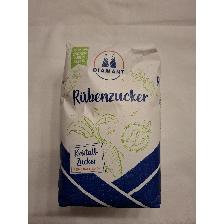Zucker: (57, 40, 163, 210)
